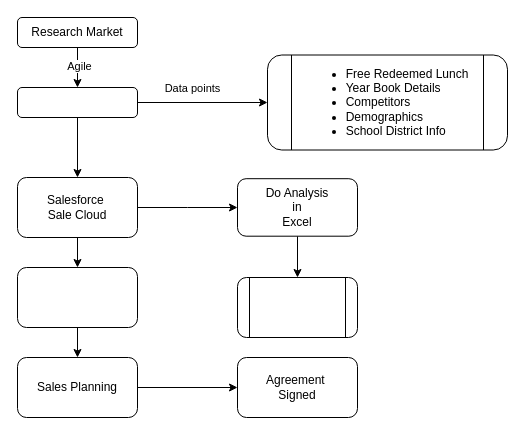
Image size: 525x435. Some labels were removed from this diagram. The centre of each missing label's shape, as x and y in pixels:
External Data File: (77,102)
Opportunity Pipeline: (77,297)
Revise Tiers Hire Reps Partnership: (297,307)
